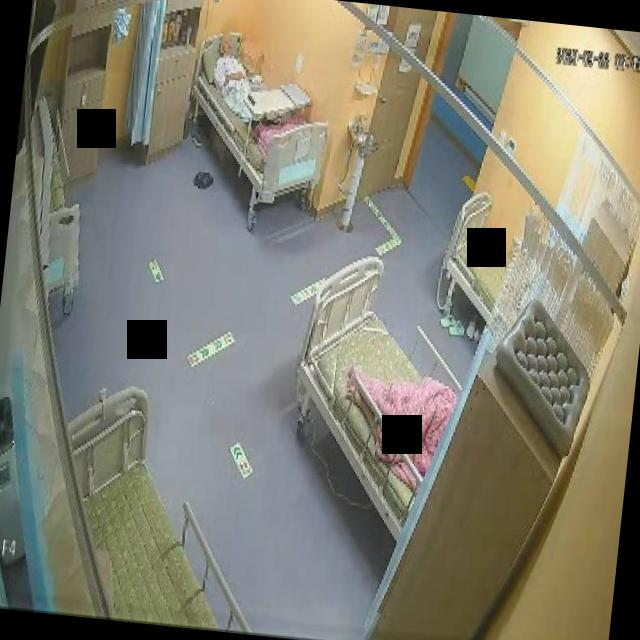bed: (46, 383, 274, 634), (280, 252, 465, 542), (176, 28, 338, 210), (440, 188, 516, 326)
lie: (207, 30, 259, 118)
patient: (207, 32, 257, 120)
